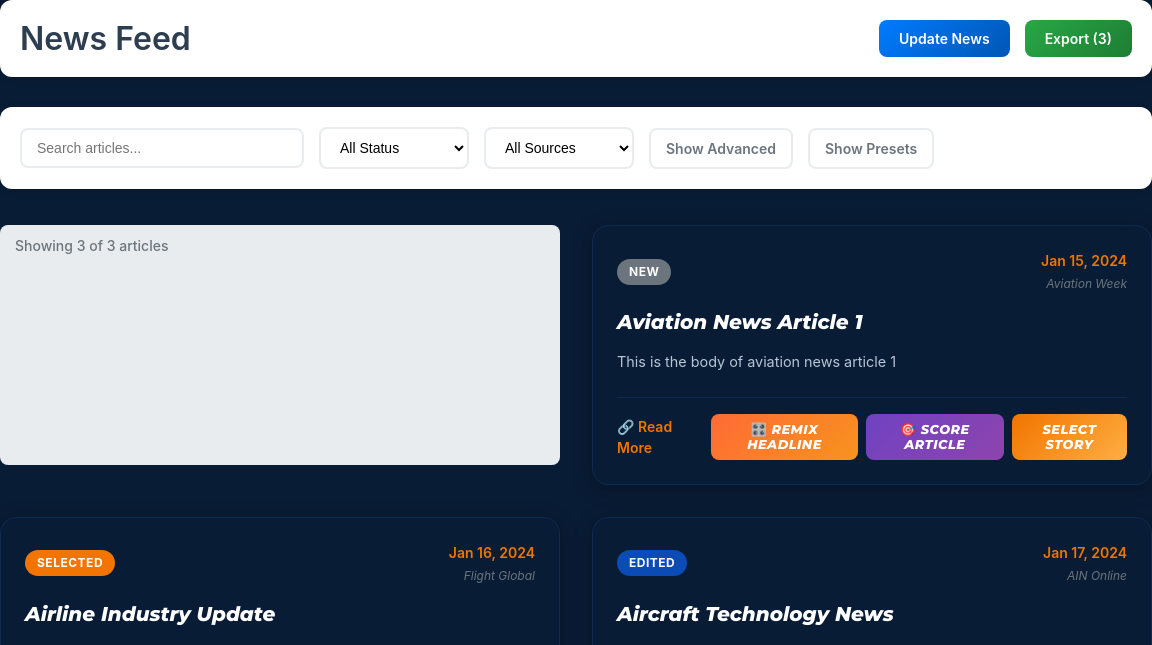
Feed Component › Filter Presets › saves current filter as preset
Expected: the heading "Aviation News Article 1" is shown, [617, 310, 862, 334]
Show advanced filters
Step 1. Click the button "Show Advanced" → [721, 148], box [649, 128, 793, 168]
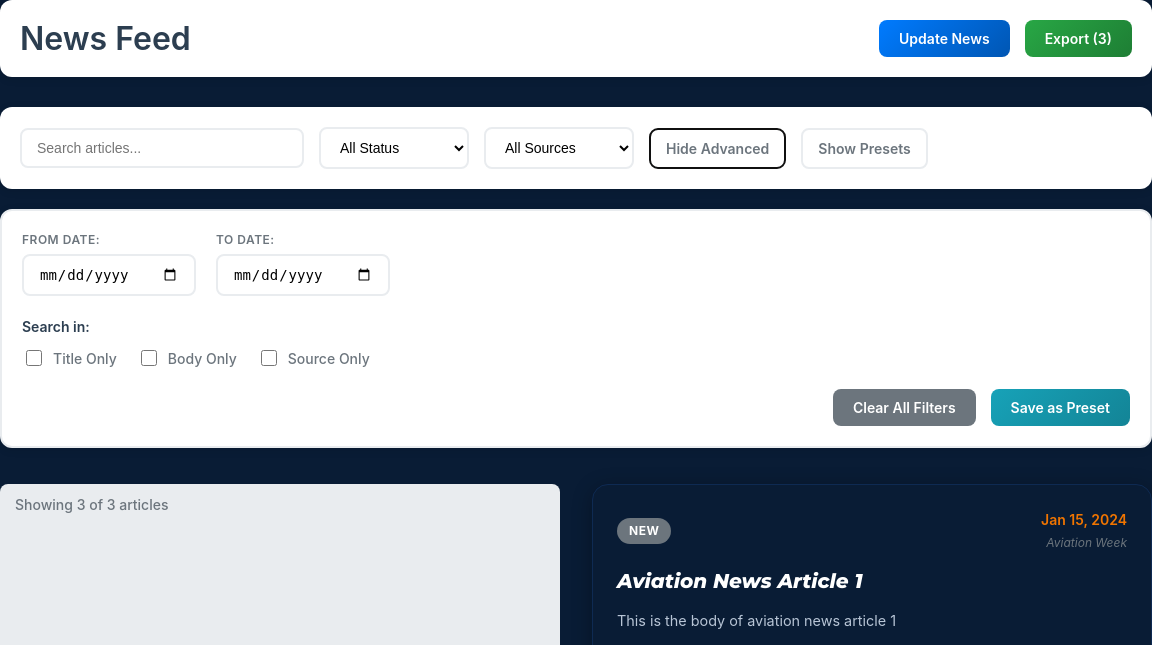
Set some filters
Step 2. Type "aviation" into the field with placeholder "Search articles..." → [162, 148], box [20, 128, 304, 168]
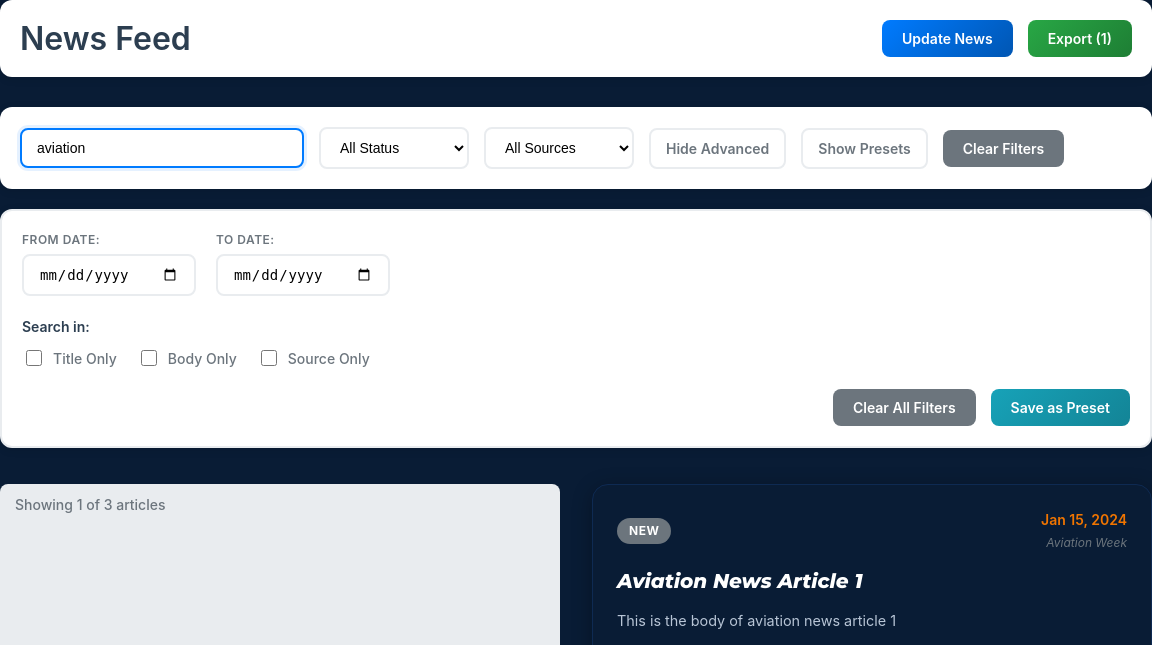
Step 3. Click the button "Save as Preset" → [1060, 408], box [991, 389, 1130, 426]
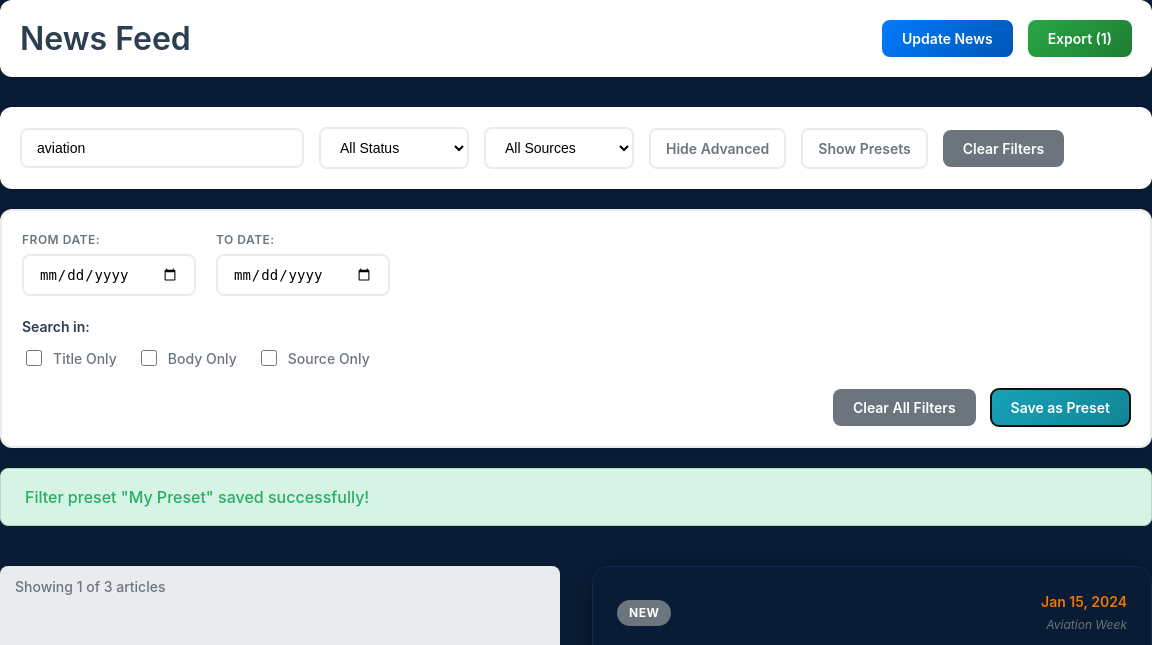
Result: the text "Filter preset \"My Preset\" saved successfully!" is shown at [0, 468, 1151, 526]
